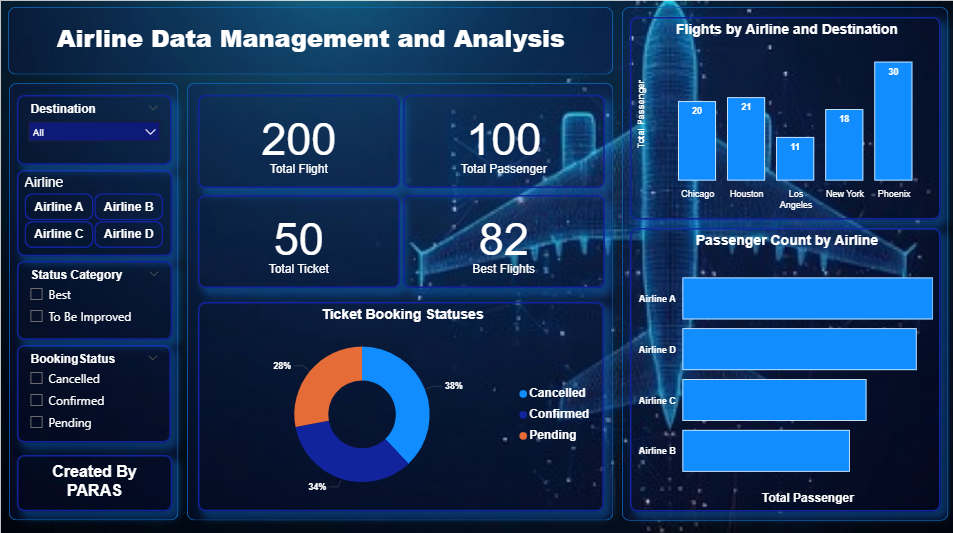

Layout of this report page (visuals, bound fields, positions):
{"tool":"powerbi","page":{"name":"Page 1","canvas":[1280,720],"ordinal":0},"visuals":[{"type":"image","box":[0,0,1280,720],"z":0},{"type":"shape","box":[15.7,114.3,225.7,582.9],"z":1000},{"type":"shape","box":[15,13.3,806.7,90],"z":2000},{"type":"shape","box":[253.3,115,568.3,583.3],"z":3000},{"type":"shape","box":[833.3,13.3,435,685],"z":4000},{"type":"textbox","box":[26.7,26.7,783.3,61.7],"z":5000},{"type":"clusteredBarChart","title":"Passenger Count by Airline","fields":{"Category":["Flights.Airline"],"Y":["CountNonNull(Passengers.PassengerID)"]},"box":[844.4,307.8,414.4,377.8],"z":6000},{"type":"donutChart","title":"Ticket Booking Statuses","fields":{"Category":["Tickets.BookingStatus"],"Y":["CountNonNull(Tickets.TicketID)"]},"box":[268.6,407.1,541.4,278.6],"z":7000},{"type":"columnChart","title":"Flights by Airline and Destination","fields":{"Category":["Flights.Airline","Flights.Destination"],"Y":["CountNonNull(Passengers.PassengerID)"]},"box":[844.4,26.7,414.4,270],"z":8000},{"type":"card","fields":{"Values":["Count(Flights.FlightID)"]},"box":[268.6,130,268.6,124.3],"z":9000},{"type":"card","fields":{"Values":["CountNonNull(Tickets.TicketID)"]},"box":[268.6,264.3,268.6,124.3],"z":10000},{"type":"card","fields":{"Values":["CountNonNull(Passengers.PassengerID)"]},"box":[541.4,130,268.6,124.3],"z":11000},{"type":"card","fields":{"Values":["CountNonNull(Flights.Status Category)"]},"box":[541.4,264.3,268.6,124.3],"z":12000},{"type":"advancedSlicerVisual","fields":{"Values":["Flights.Airline"]},"box":[26.7,230,206.7,115],"z":13000},{"type":"slicer","fields":{"Values":["Flights.Destination"]},"box":[27.1,130,205.7,92.9],"z":14000},{"type":"slicer","fields":{"Values":["Tickets.BookingStatus"]},"box":[26.7,463.3,205,130],"z":15000},{"type":"textbox","box":[26.7,610,206.7,75],"z":16000},{"type":"slicer","fields":{"Values":["Flights.Status Category"]},"box":[26.7,351.7,206.7,105],"z":17000}]}

Visuals, with their boxes in screenshot pixels (x1, y1, x2, y2), scaled from the page's 1280x720 canvas onto the 953x533 screenshot:
image: <box>0,0,952,532</box>
shape: <box>12,85,180,516</box>
shape: <box>11,10,612,76</box>
shape: <box>189,85,612,517</box>
shape: <box>620,10,944,517</box>
textbox: <box>20,20,603,65</box>
"Passenger Count by Airline" clusteredBarChart: <box>629,228,937,508</box>
"Ticket Booking Statuses" donutChart: <box>200,301,603,508</box>
"Flights by Airline and Destination" columnChart: <box>629,20,937,220</box>
card - Count(Flights.FlightID): <box>200,96,400,188</box>
card - CountNonNull(Tickets.TicketID): <box>200,196,400,288</box>
card - CountNonNull(Passengers.PassengerID): <box>403,96,603,188</box>
card - CountNonNull(Flights.Status Category): <box>403,196,603,288</box>
advancedSlicerVisual - Flights.Airline: <box>20,170,174,255</box>
slicer - Flights.Destination: <box>20,96,173,165</box>
slicer - Tickets.BookingStatus: <box>20,343,173,439</box>
textbox: <box>20,452,174,507</box>
slicer - Flights.Status Category: <box>20,260,174,338</box>
